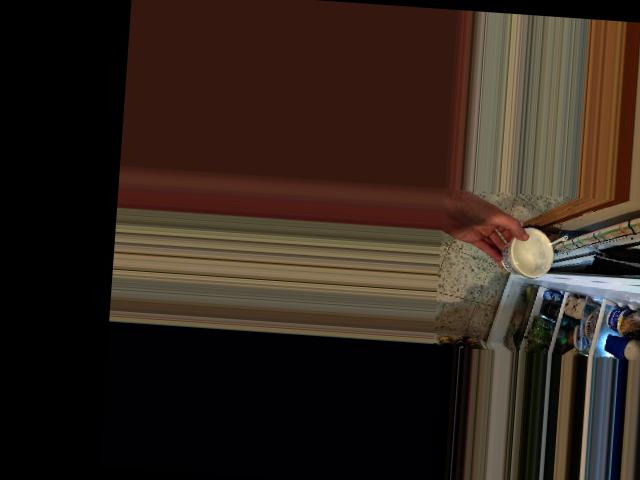cotage: (506, 232, 560, 278)
